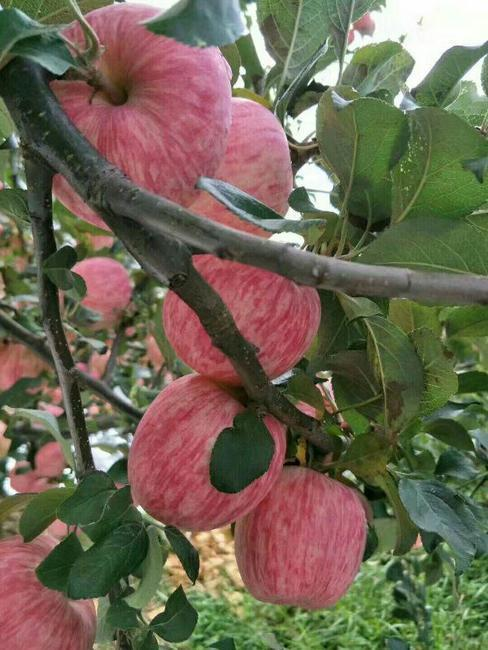apple: (45, 4, 233, 227), (128, 374, 287, 532), (164, 251, 322, 386), (233, 463, 367, 611), (188, 97, 293, 243), (1, 520, 102, 650)
